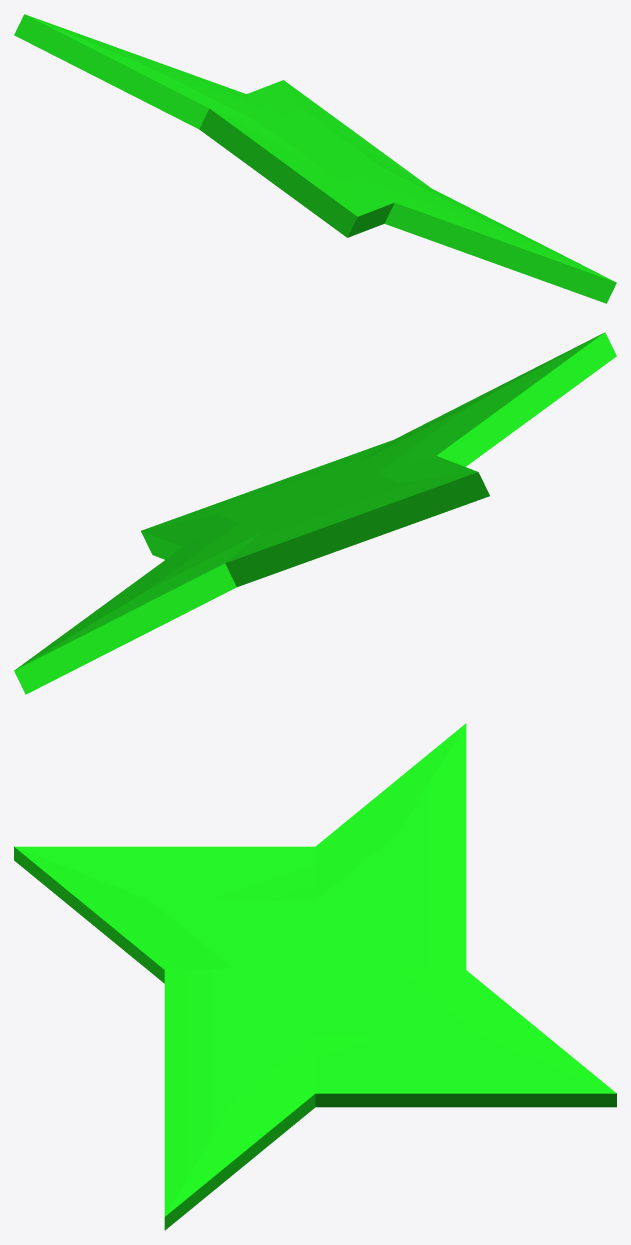
File: ShurikenHUD.fbx
3 views of the same model, one above another, from view 1: azimuth 30°, elevation 25°; view 2: azimuth 150°, elevation 25°; view 3: azimuth 270°, elevation 25° (orthographic). The views are drawn at different scales.
Visible parts, largest first — view 1: ShurikenHUD; view 2: ShurikenHUD; view 3: ShurikenHUD.
Part boxes in pixels (bbox=[...]): ShurikenHUD: bbox=[14, 14, 616, 303]; ShurikenHUD: bbox=[14, 332, 616, 694]; ShurikenHUD: bbox=[14, 723, 616, 1230].
Size of the model in its own units: 35.44 by 21.39 by 40.
